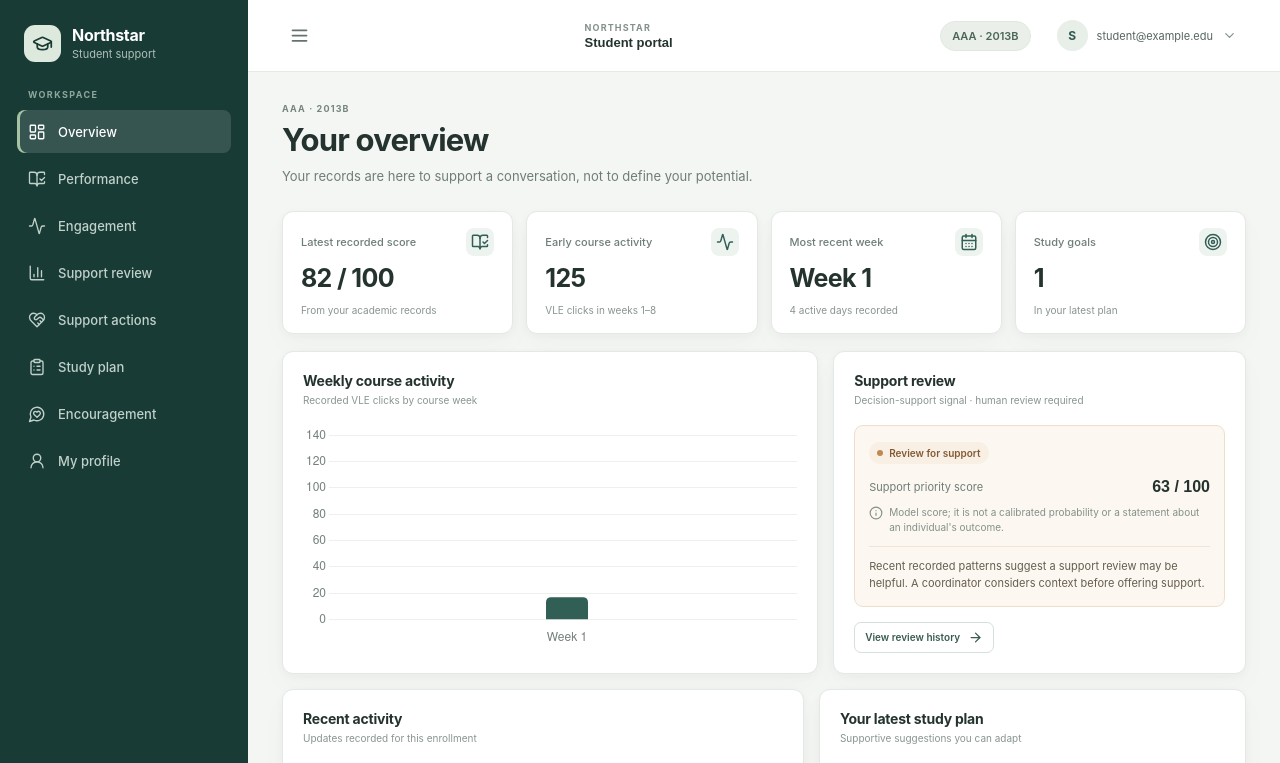
it: student and coordinator frontend flows › opens the Support actions page from student navigation and loads its data
This screenshot has width=1280, height=763.
Click the link "Support actions" at coordinates (92, 320), box [28, 310, 156, 328]
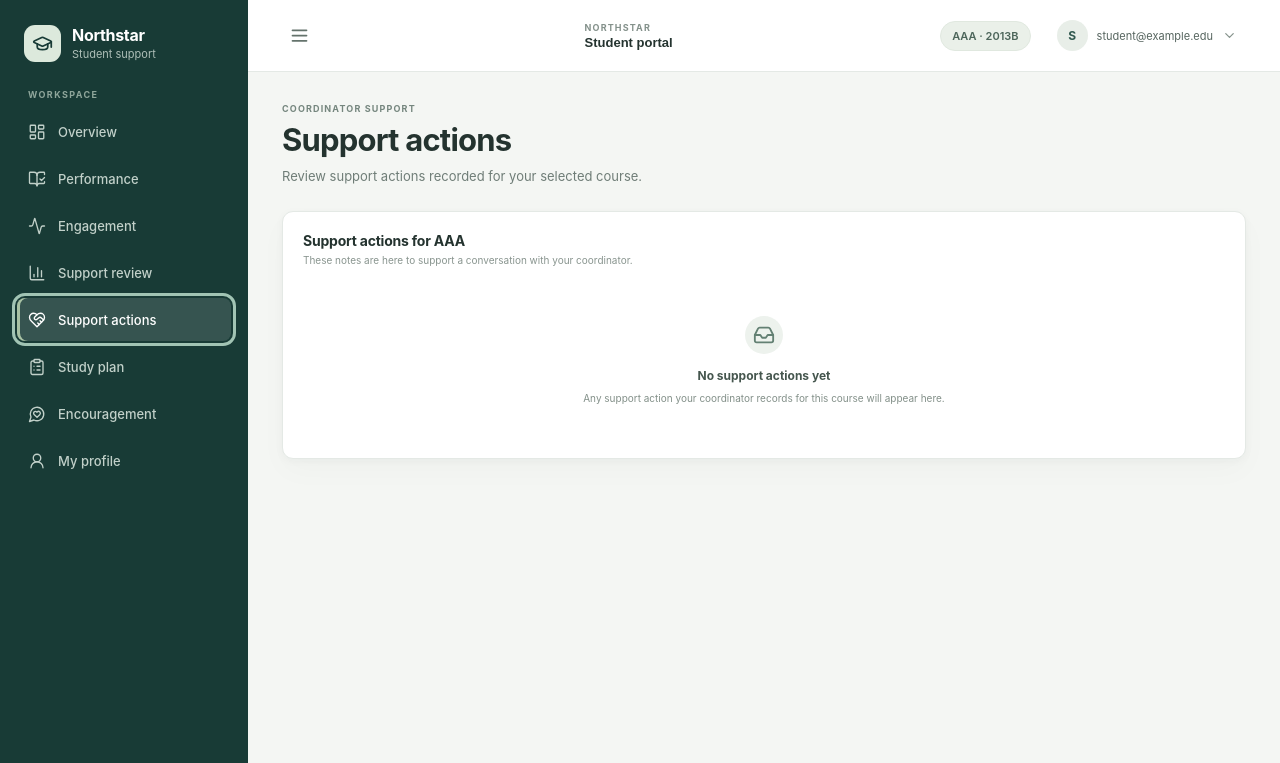
Expected: the heading "Support actions" is shown, [282, 121, 511, 158]
